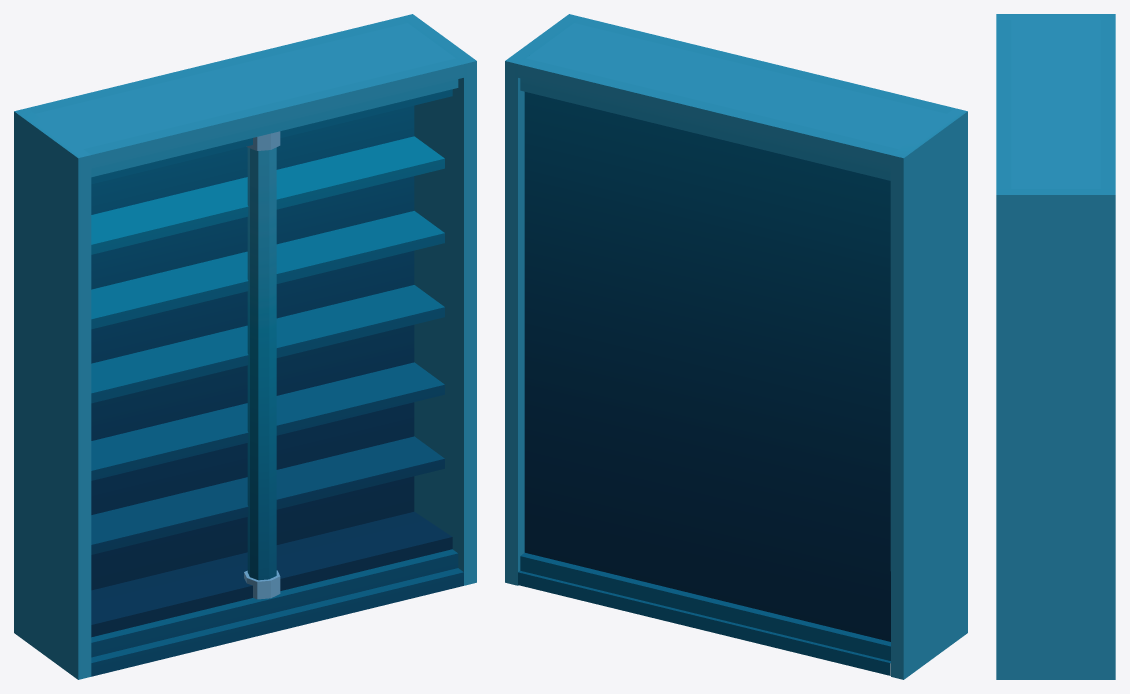
The model's file is 1 Bookshelf 02 Center_01.fbx.
The picture shows the model from 3 angles, left to right: view 1: azimuth 30°, elevation 25°; view 2: azimuth 150°, elevation 25°; view 3: azimuth 270°, elevation 25°; orthographic projection. The views are drawn at different scales.
Parts seen in each view (by area): view 1: Bookshelf 02 Center_01; view 2: Bookshelf 02 Center_01; view 3: Bookshelf 02 Center_01.
Part boxes in pixels (left/top/right/bottom): Bookshelf 02 Center_01: left=14, top=14, right=476, bottom=679; Bookshelf 02 Center_01: left=505, top=14, right=967, bottom=679; Bookshelf 02 Center_01: left=996, top=14, right=1115, bottom=679.
Size of the model in its own units: 214 by 267 by 59.62.
